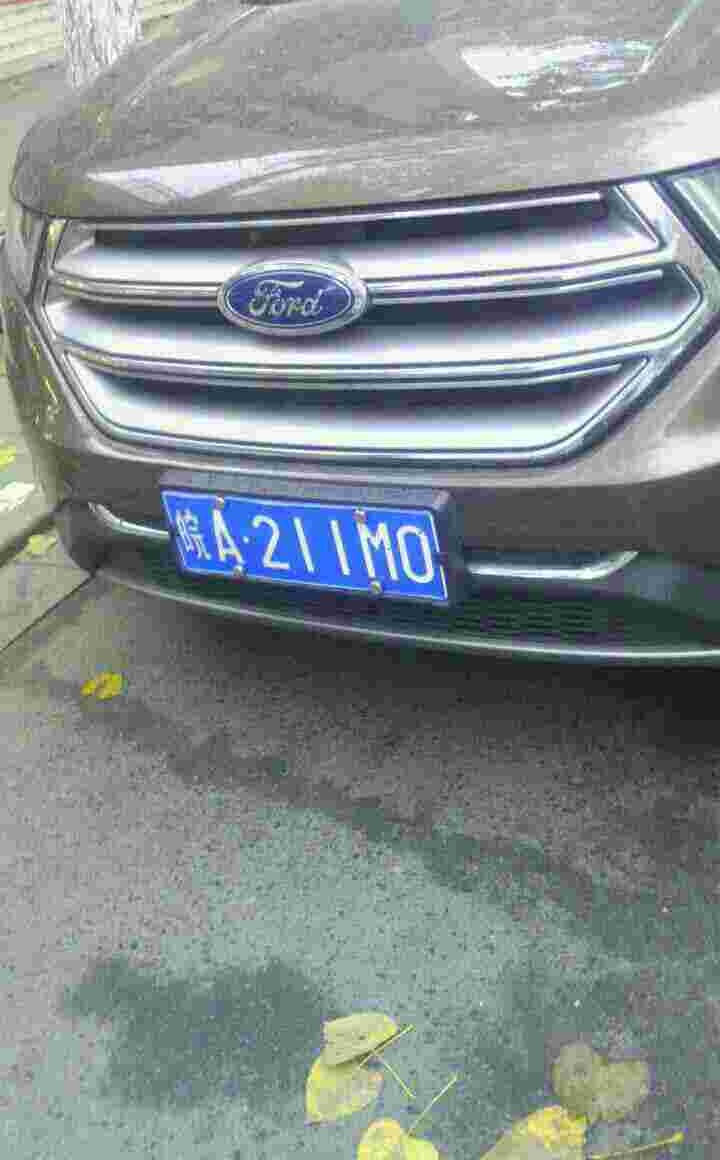license_plate: (165, 490, 460, 608)
